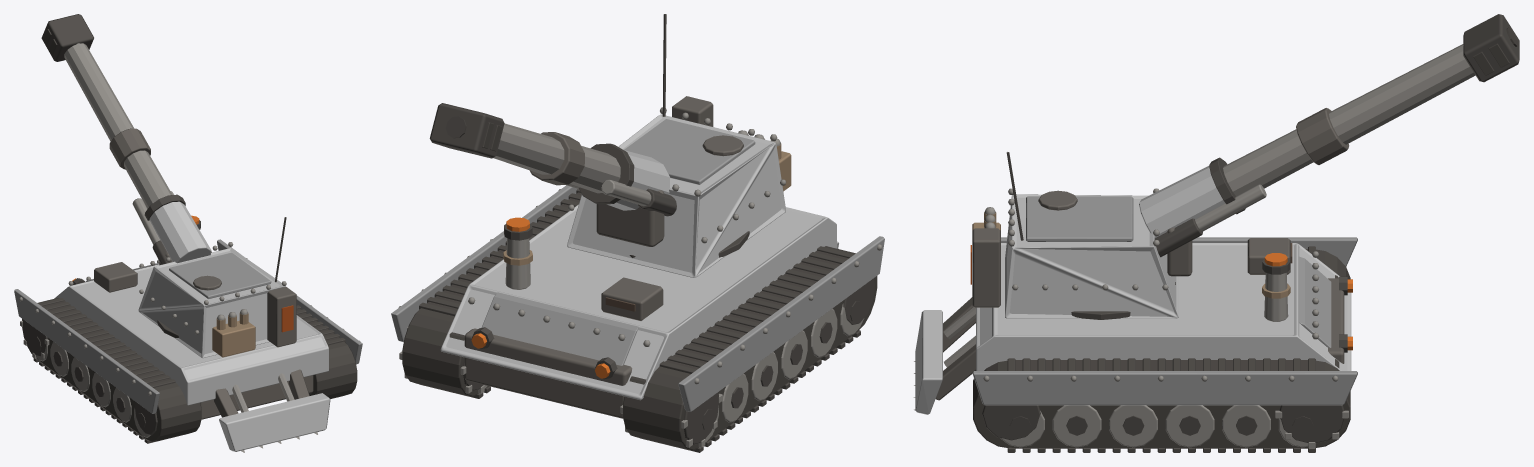
File: crucible_long_artillery.glb
3 views of the same model, side by side, from view 1: azimuth 30°, elevation 25°; view 2: azimuth 150°, elevation 25°; view 3: azimuth 270°, elevation 25° (orthographic). The views are drawn at different scales.
Parts seen in each view (by area): view 1: Body, Turret; view 2: Body, Turret; view 3: Body, Turret.
Part boxes in pixels (box(x1,y1,x2,y2)): Body: box(14, 215, 362, 452); Turret: box(41, 14, 296, 357); Body: box(391, 185, 884, 452); Turret: box(429, 14, 791, 277); Body: box(913, 237, 1357, 452); Turret: box(970, 14, 1519, 318).
Bounding box in the file's own units: 1.86 × 2.25 × 3.39.
